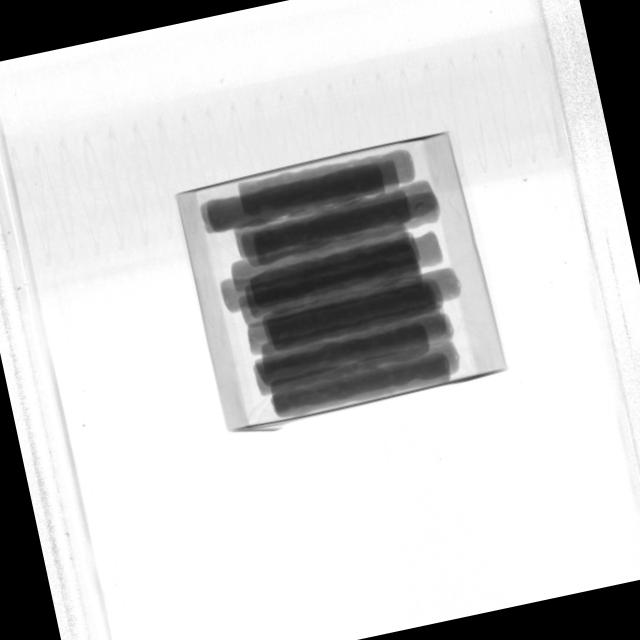ym: (412, 200, 425, 214)
